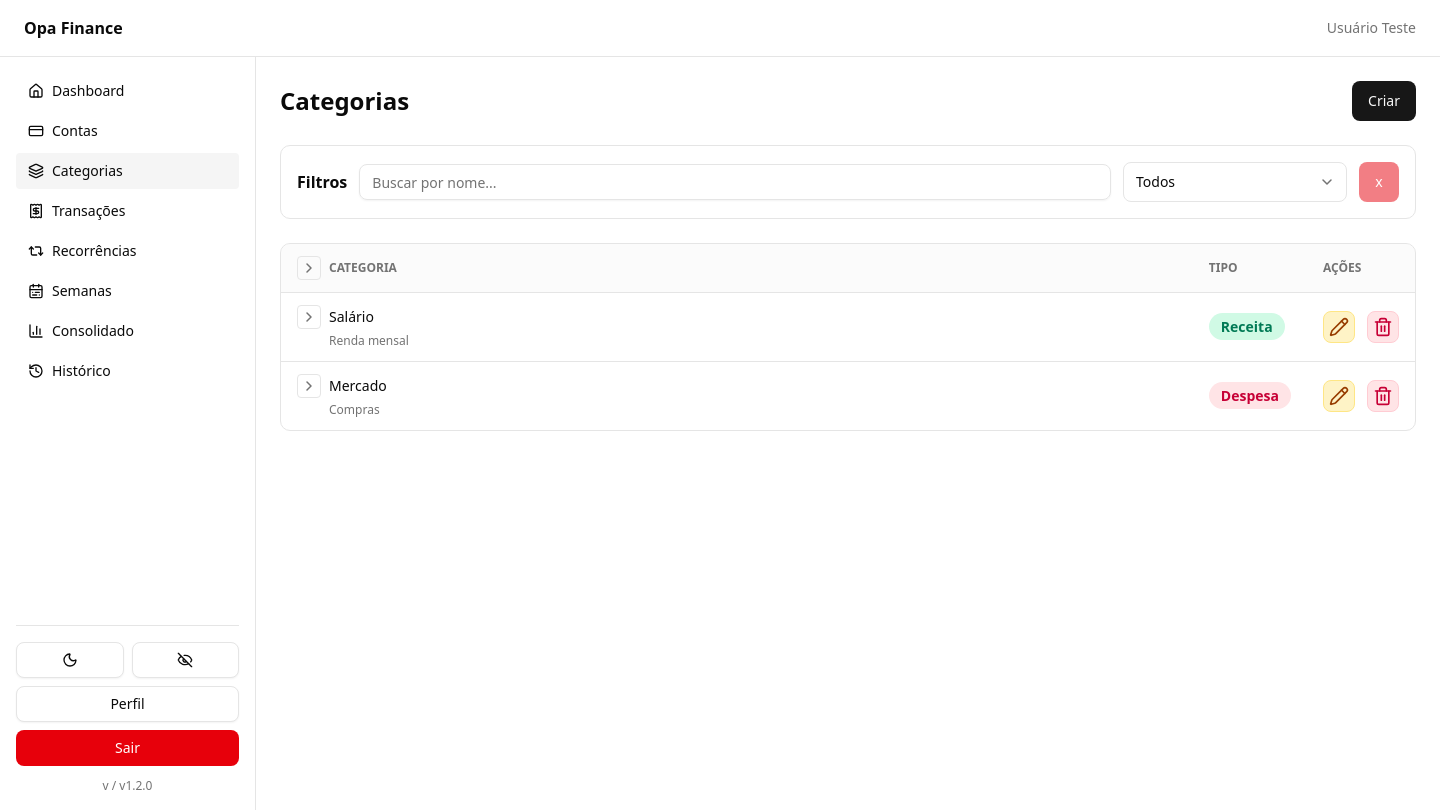
Test case: categories list component › deve filtrar por tipo e expandir/recolher subcategorias
Expected: the heading "Categorias" is shown, [280,85,409,117]
Select "Despesa" in the dropdown: (1235, 182) [1123,162,1347,202]
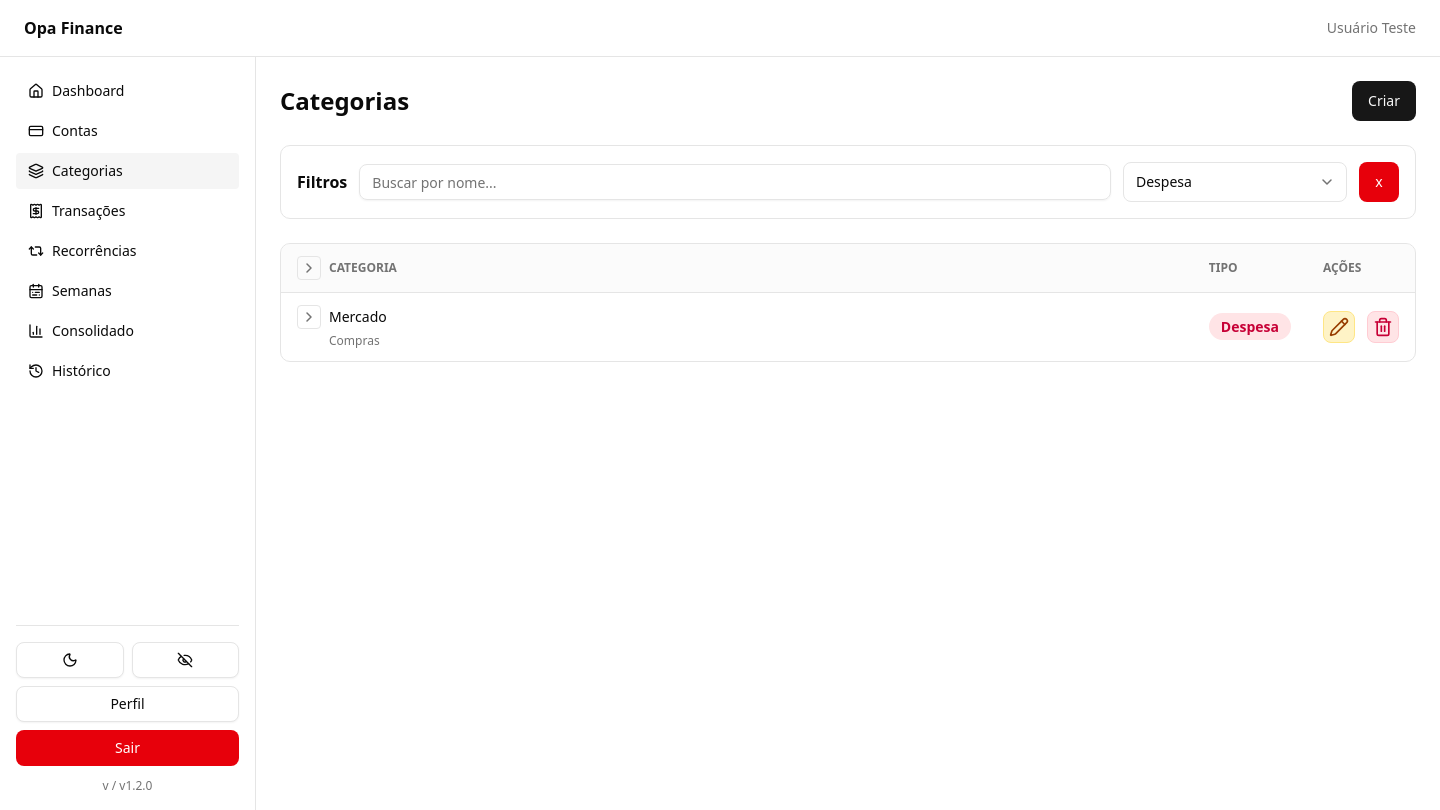
Expected: the text "Salário" is not shown
Click the button named "Mostrar subcategorias": (309, 317) [297,305,321,329]
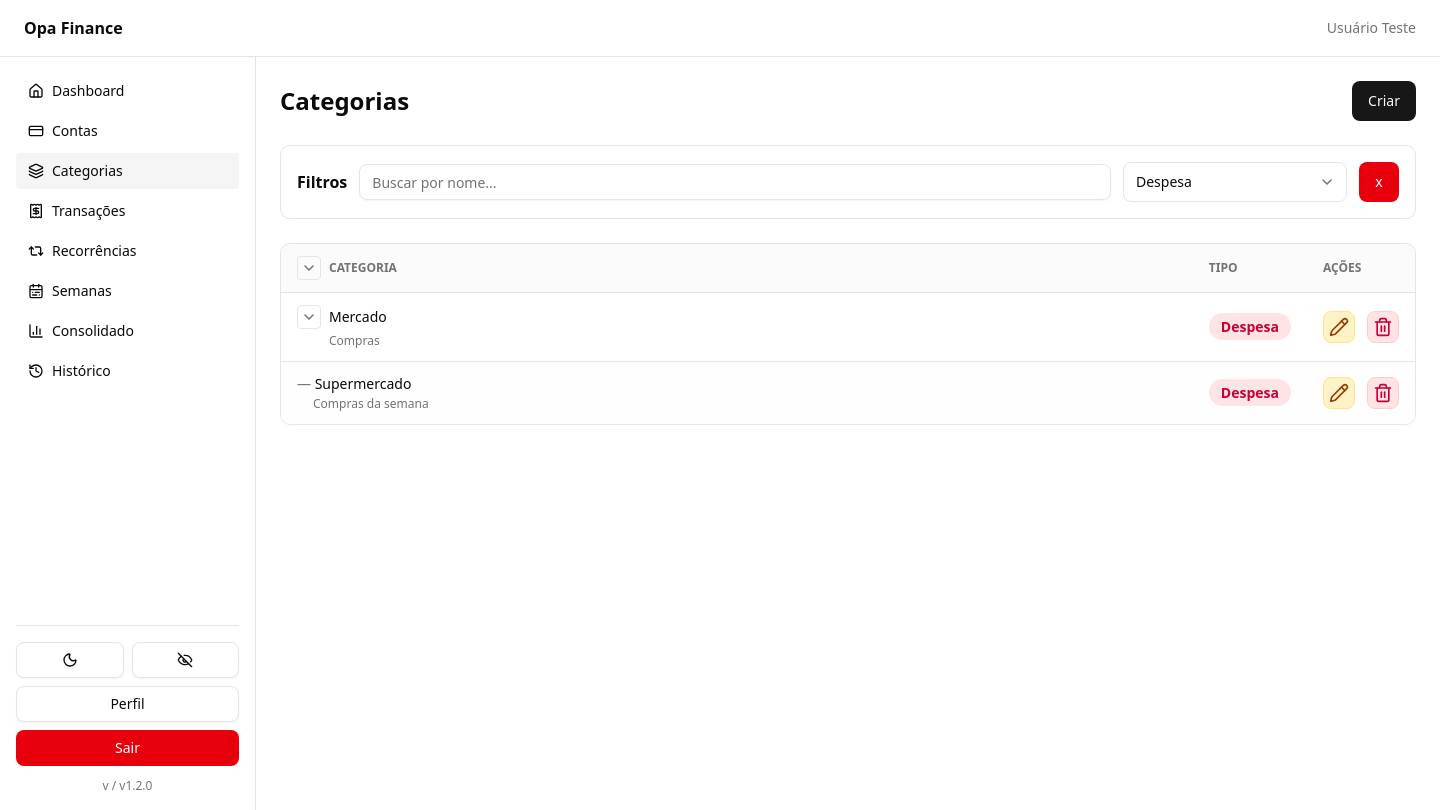
Click the button named "Mostrar subcategorias": (309, 317) [297,305,321,329]
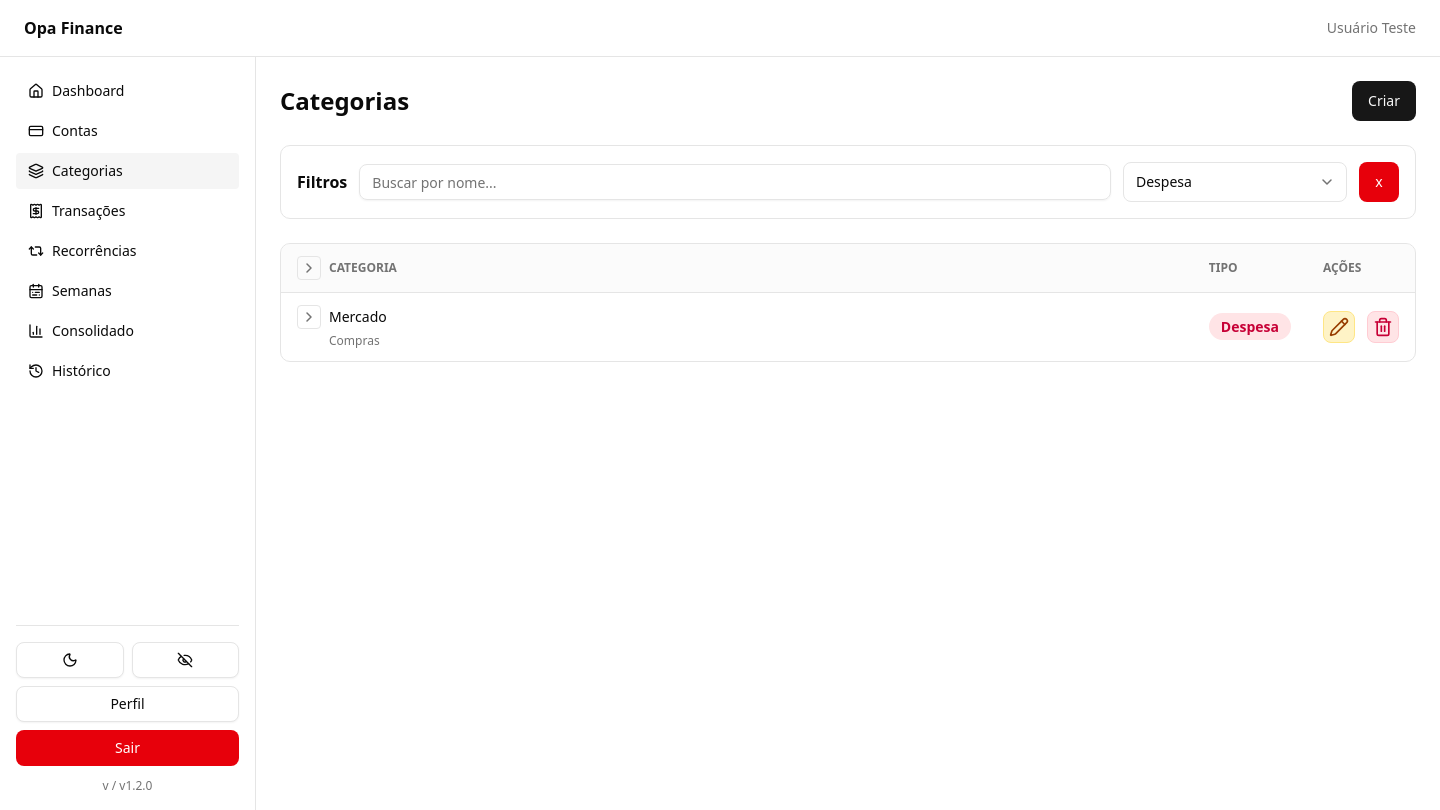
Expected: the text "Supermercado" is not shown
